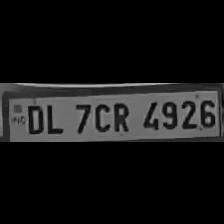2: (178, 96, 196, 128)
4: (136, 97, 160, 130)
6: (196, 96, 216, 128)
7: (68, 99, 92, 133)
9: (158, 97, 176, 129)
C: (92, 100, 110, 132)
D: (23, 100, 44, 134)
L: (43, 100, 65, 134)
R: (108, 98, 132, 132)
